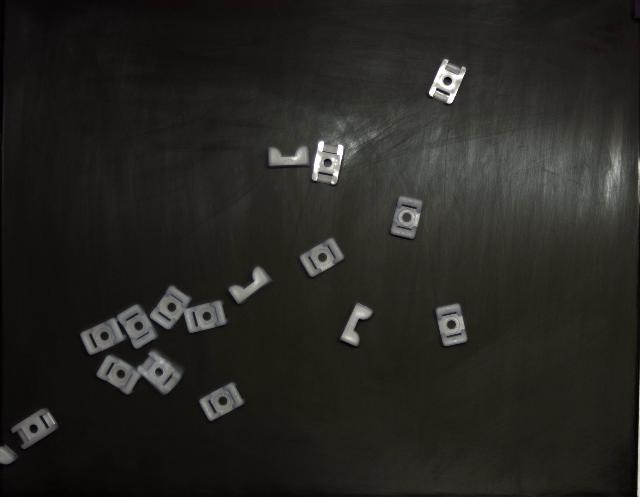first_side: (150, 286, 191, 330), (96, 355, 141, 395), (118, 305, 158, 349), (200, 382, 245, 421), (300, 239, 344, 278), (80, 319, 126, 355), (184, 301, 228, 334), (436, 304, 468, 348), (390, 196, 422, 239)
second_side: (11, 409, 59, 450), (429, 59, 466, 104), (311, 141, 344, 185)
third_side: (229, 266, 271, 305), (340, 304, 372, 346), (269, 146, 310, 168)
